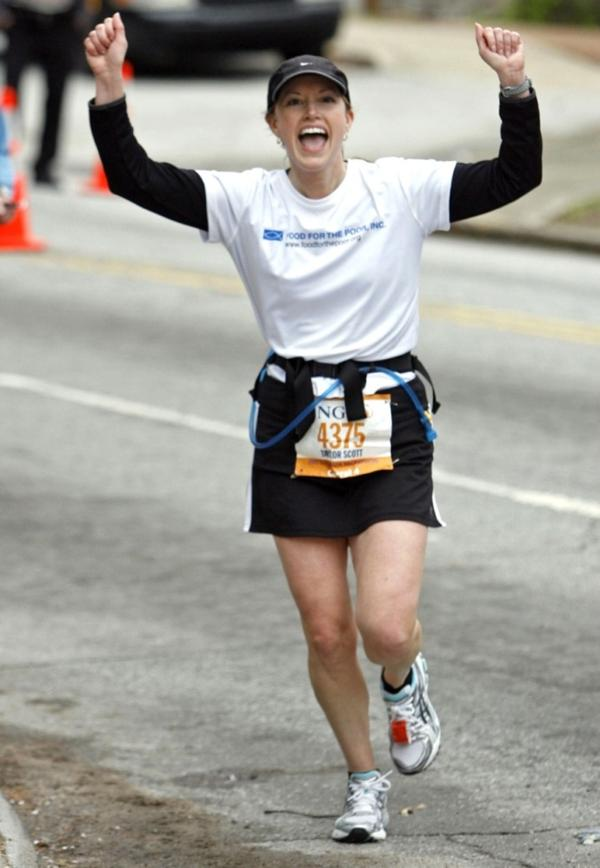person: (84, 12, 542, 842)
